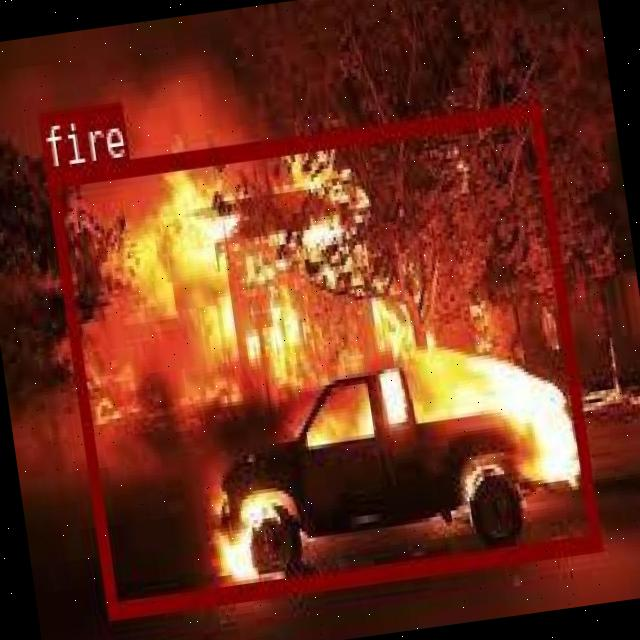fire: (44, 101, 600, 616)
